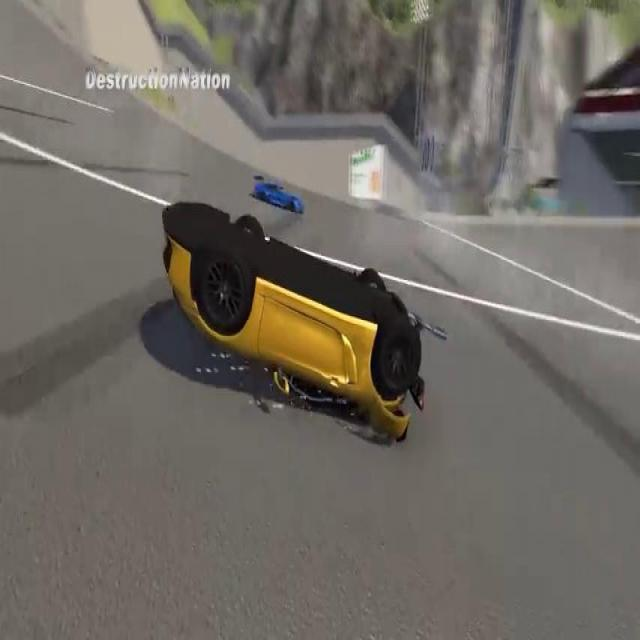severe: (160, 192, 424, 451)
